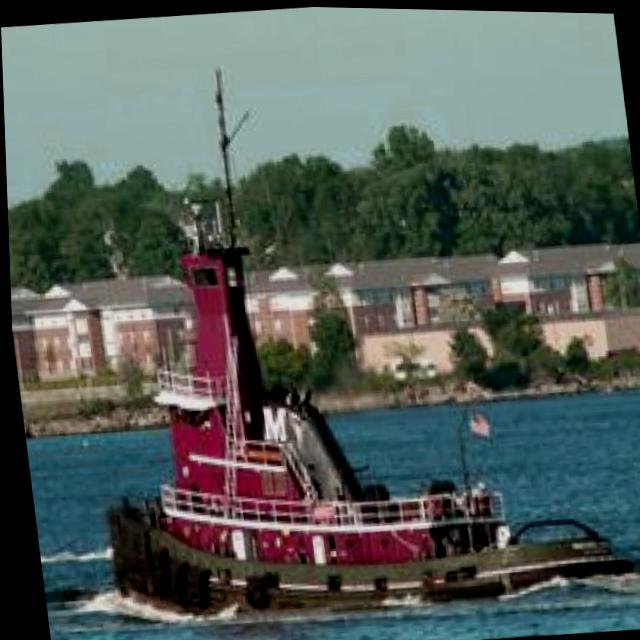ship2: (100, 68, 628, 615)
